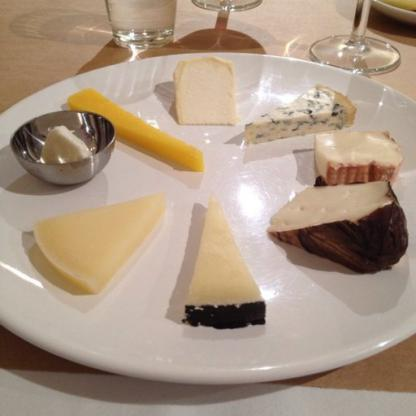mozarella cheese: (244, 83, 355, 140), (173, 56, 239, 126), (40, 125, 92, 167)
parmesan cheese: (268, 177, 403, 277), (33, 194, 160, 291), (183, 194, 262, 326), (314, 130, 403, 181)
